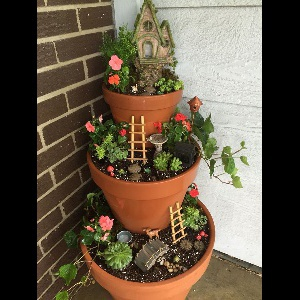flowerpot: (80, 206, 216, 299), (86, 143, 201, 235), (101, 71, 183, 147)
